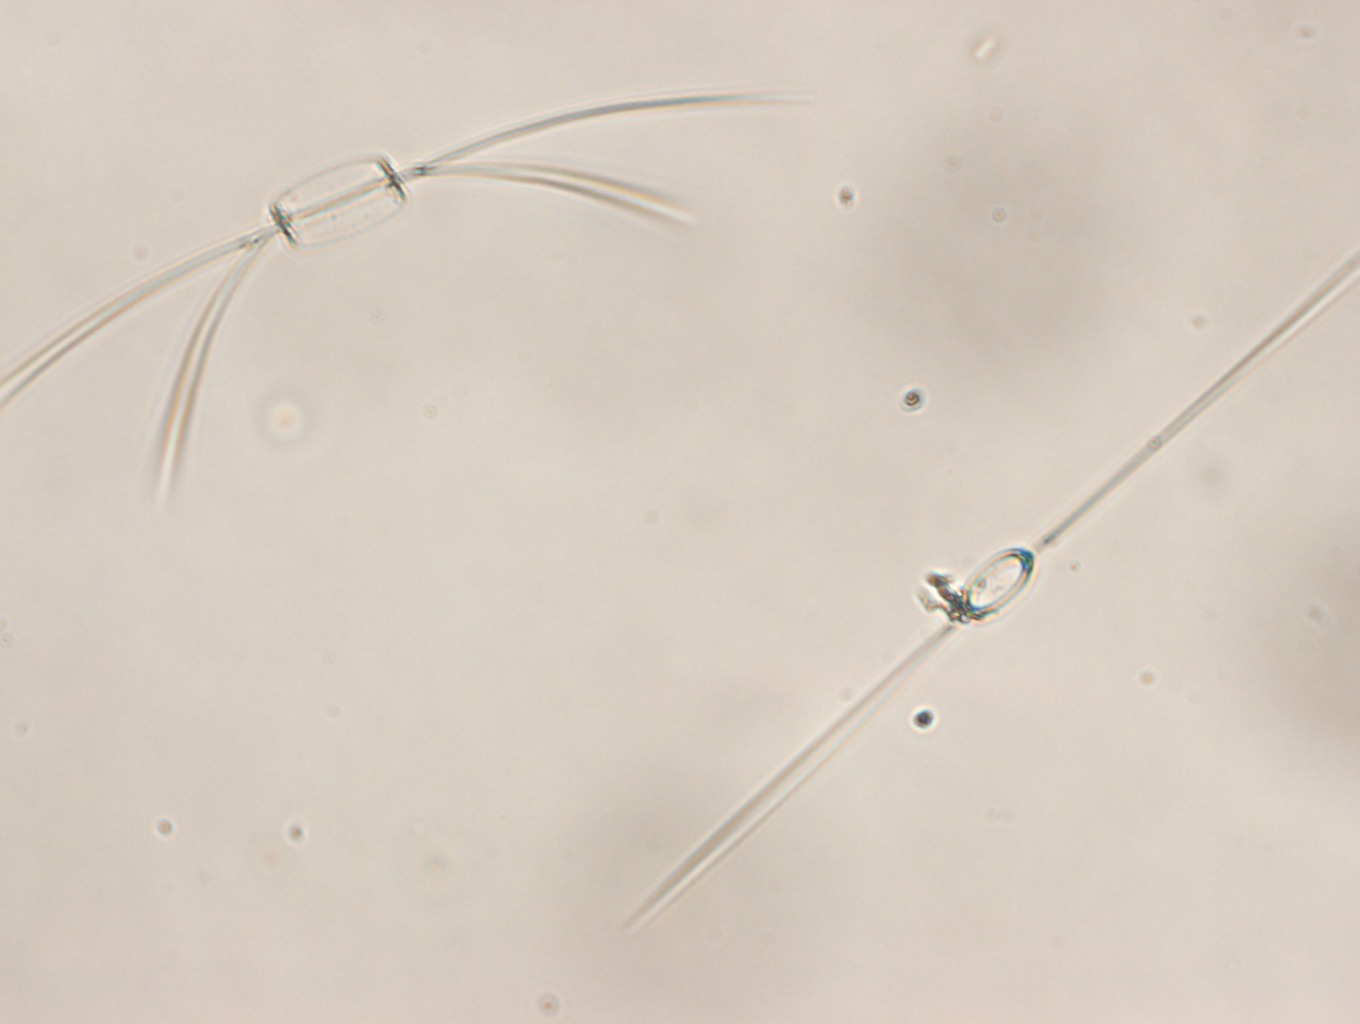chaetoceros: (629, 247, 1359, 936), (2, 85, 820, 499)
